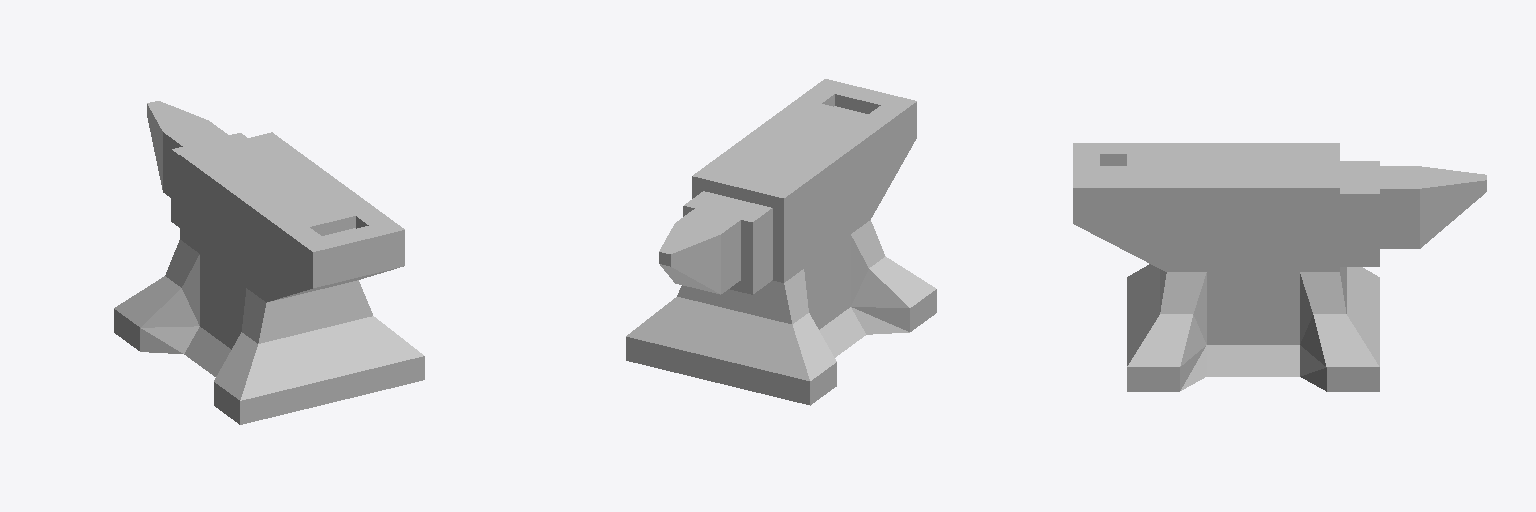
File: sm_anvil.obj
3 renders of one model, left to right at view 1: azimuth 30°, elevation 25°; view 2: azimuth 150°, elevation 25°; view 3: azimuth 270°, elevation 25°, orthographic.
Bounding box in the file's own units: 0.5 × 0.4688 × 0.9688.